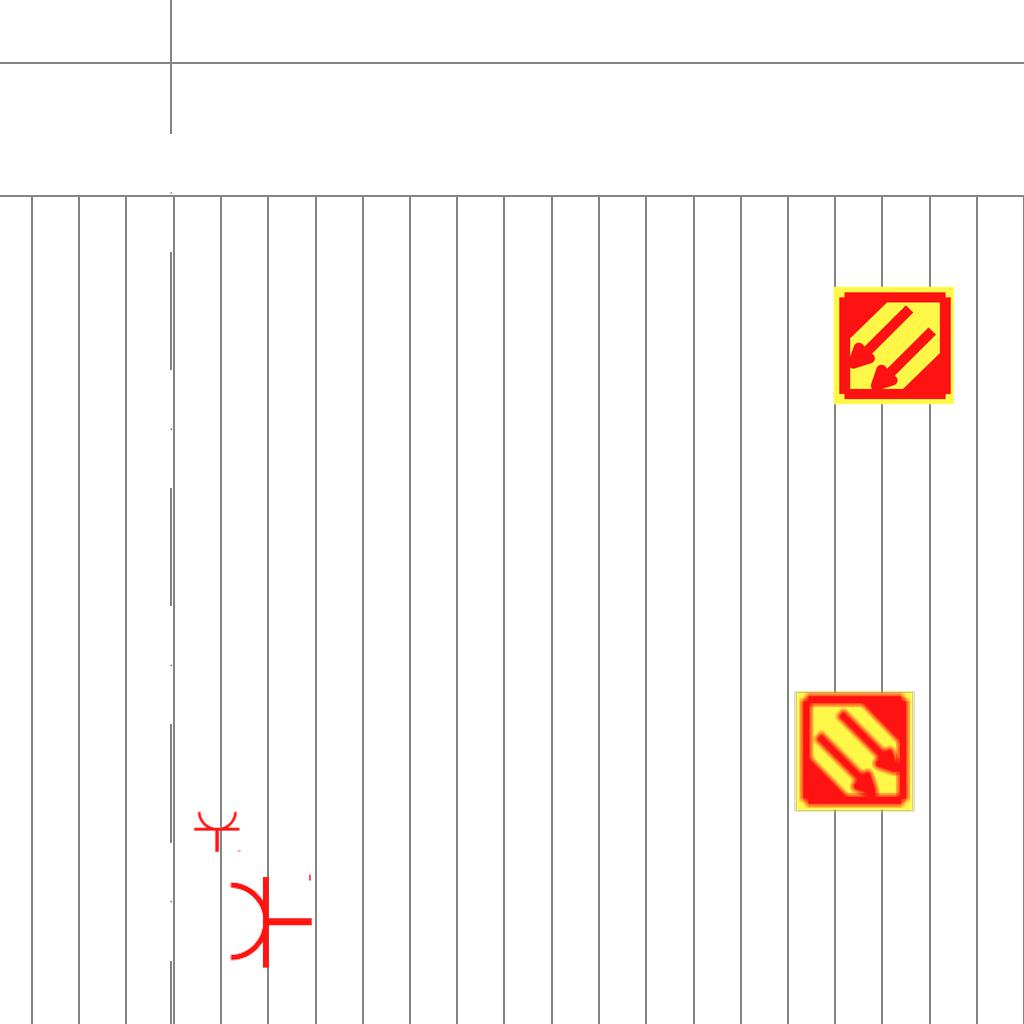ASR_Ansaugrauchmelder: (831, 283, 956, 408), (792, 689, 917, 814)
Schukosteckdose_einfach: (227, 870, 314, 970), (193, 810, 243, 853)
